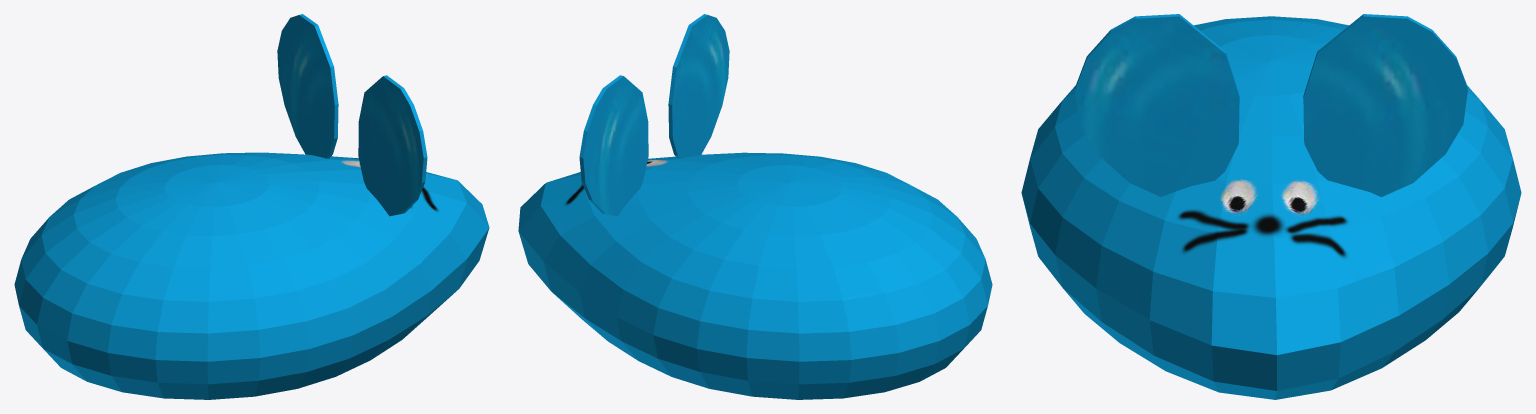
The model's file is Mouse.fbx.
3 views of the same model, side by side, from view 1: azimuth 30°, elevation 25°; view 2: azimuth 150°, elevation 25°; view 3: azimuth 270°, elevation 25° (orthographic). The views are drawn at different scales.
Visible parts, largest first — view 1: Empty_Mesh, Empty_Mesh_1; view 2: Empty_Mesh, Empty_Mesh_1; view 3: Empty_Mesh, Empty_Mesh_1.
Part boxes in pixels (x1,y1,x2,y2): Empty_Mesh: [14, 152, 489, 399]; Empty_Mesh_1: [277, 14, 427, 216]; Empty_Mesh: [518, 152, 992, 399]; Empty_Mesh_1: [579, 14, 729, 216]; Empty_Mesh: [1021, 16, 1521, 399]; Empty_Mesh_1: [1075, 14, 1467, 197].
Size of the model in its own units: 596 by 314 by 430.
